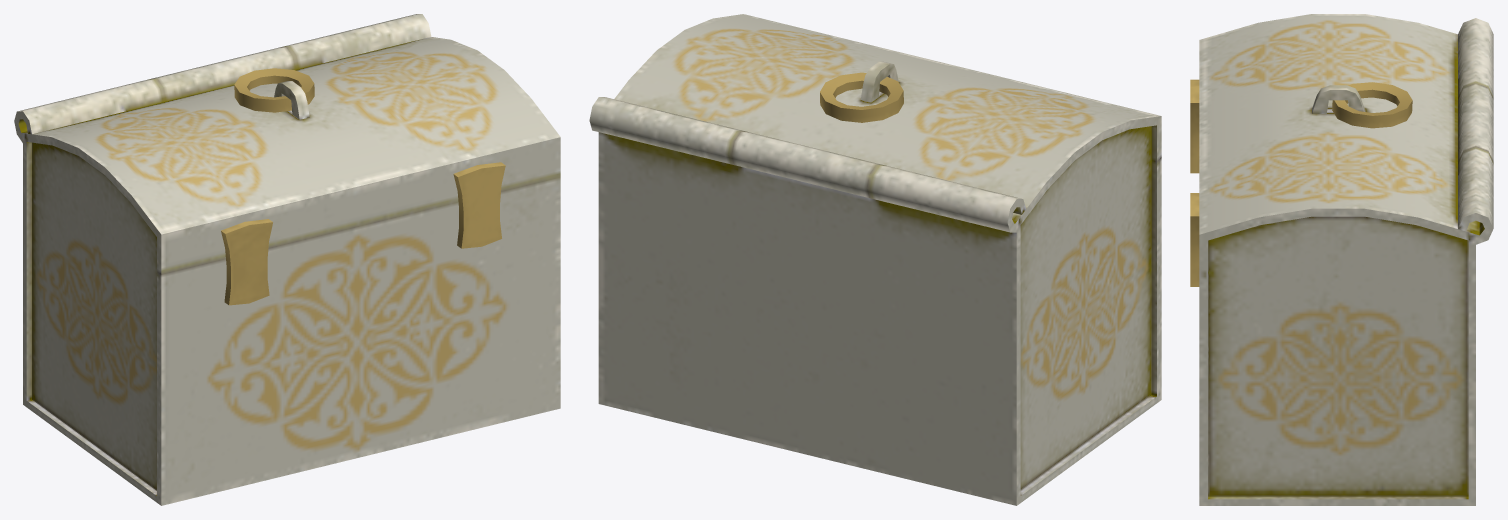
The model's file is SM_Souvenirs01E.FBX.
3 renders of one model, left to right at view 1: azimuth 30°, elevation 25°; view 2: azimuth 150°, elevation 25°; view 3: azimuth 270°, elevation 25°, orthographic. The views are drawn at different scales.
Visible parts, largest first — view 1: SM_Souvenirs01E_LOD0; view 2: SM_Souvenirs01E_LOD0; view 3: SM_Souvenirs01E_LOD0.
Boxes of the visible parts, x1,y1,x2,y2 form: SM_Souvenirs01E_LOD0: [14, 14, 560, 505]; SM_Souvenirs01E_LOD0: [589, 14, 1161, 505]; SM_Souvenirs01E_LOD0: [1190, 14, 1493, 505].
Size of the model in its own units: 11.98 by 7.88 by 9.2.
